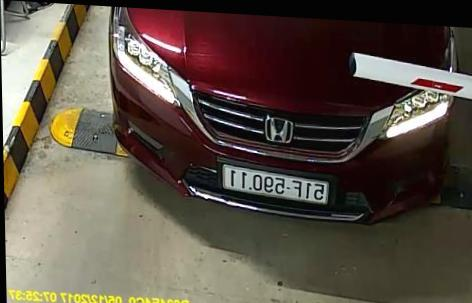License_Plate: (219, 165, 331, 207)
